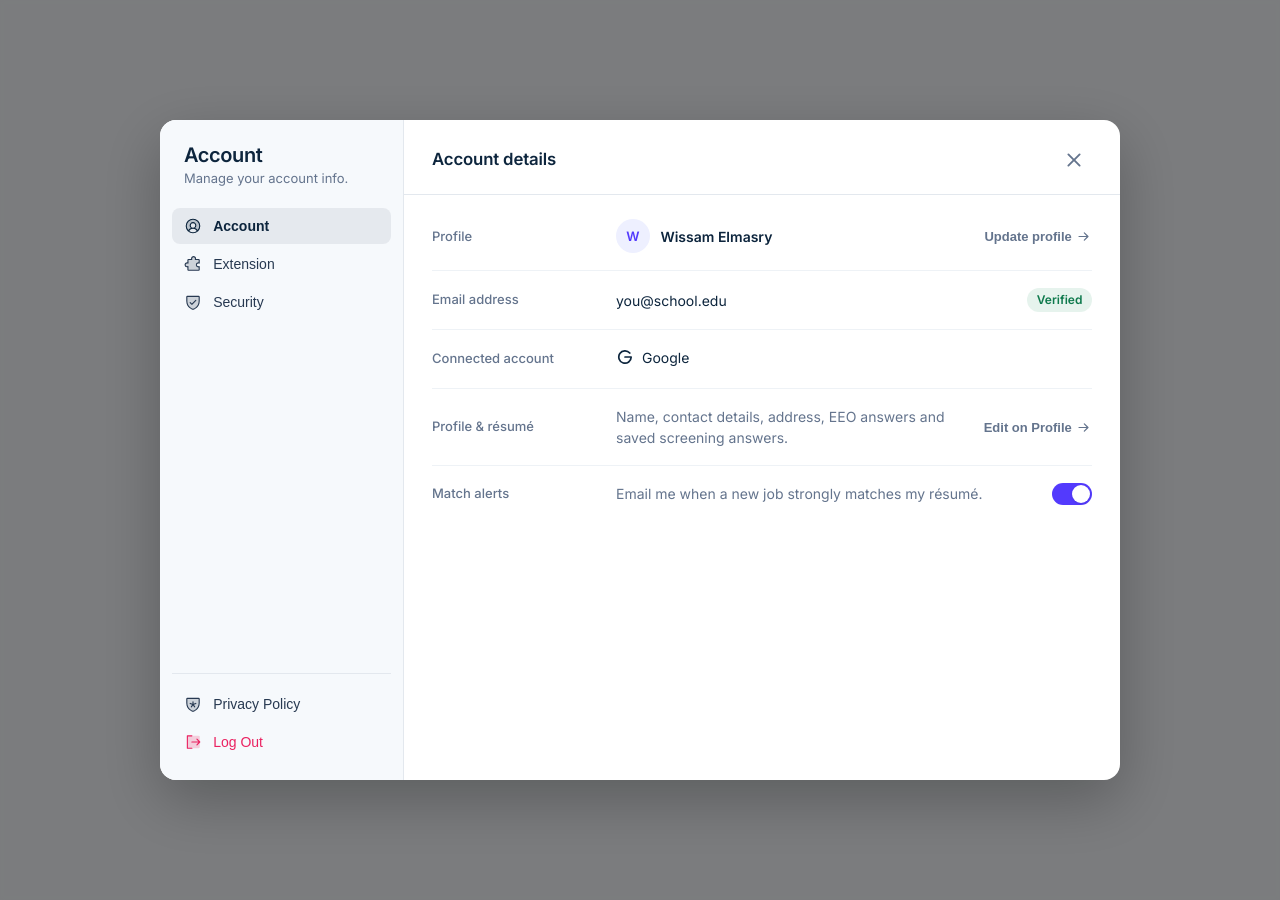
Test: SettingsModal › offers no action when the extension is already connected
The image size is (1280, 900).
Click the button "Extension" at [282, 264], box [172, 246, 391, 282]
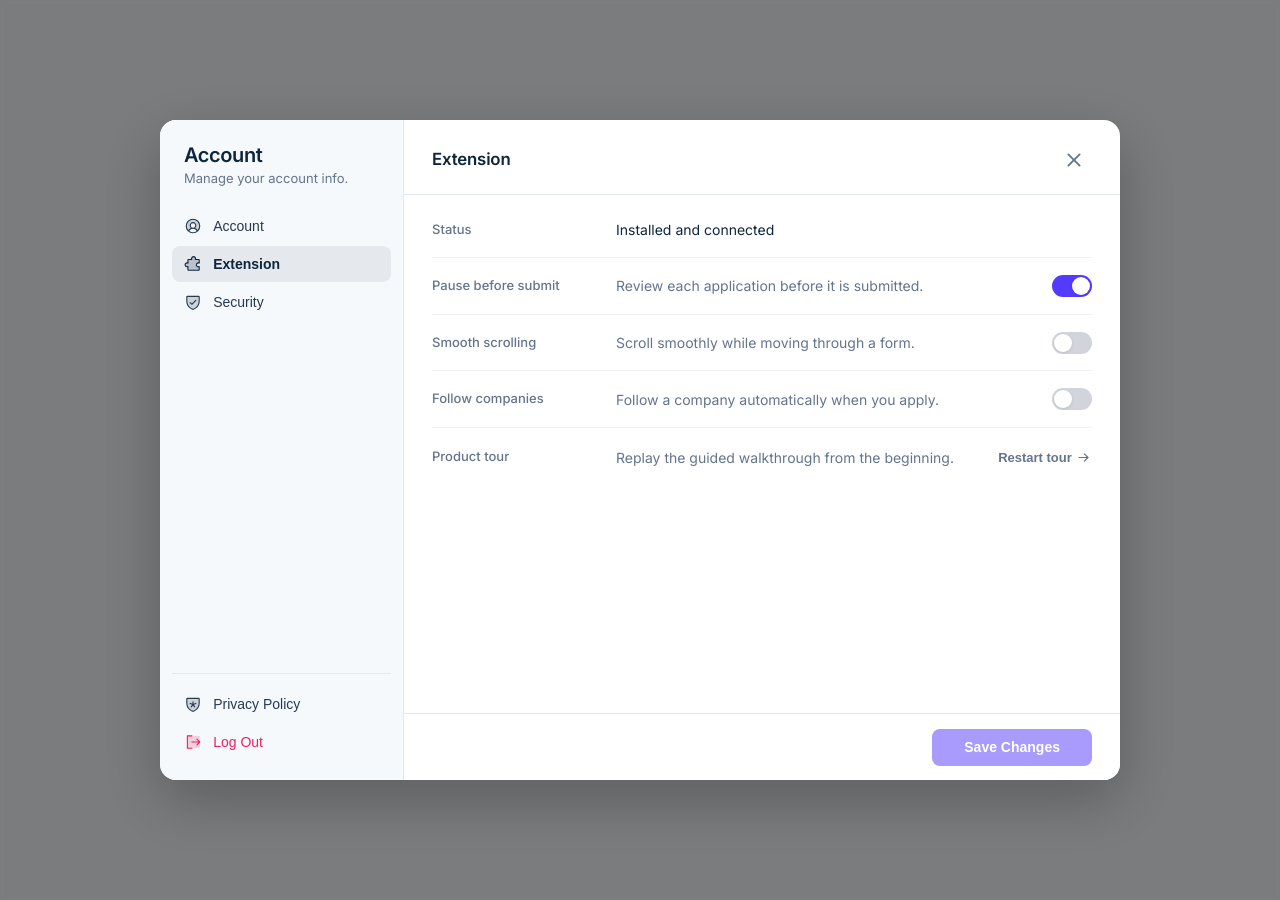
Now the text "Installed and connected" is shown, box [616, 221, 774, 238]
